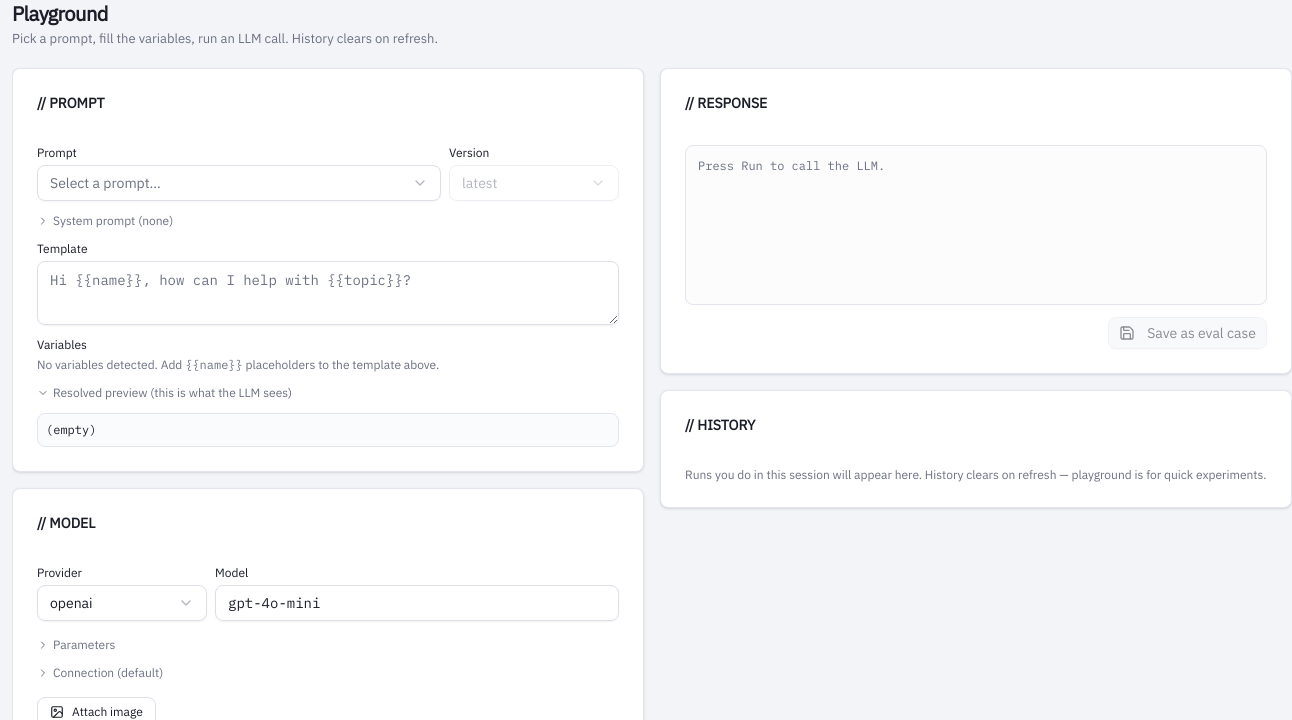
Test: PlaygroundPage › shows the provider's reason for a failed stream (P8)
The width and height of the screenshot is (1292, 720).
Expected: the text "openai" is shown, [50,593,93,613]
Type "hi" into the text box labelled "Template" at (328, 293), box [37,261,619,325]
(page scrolled)
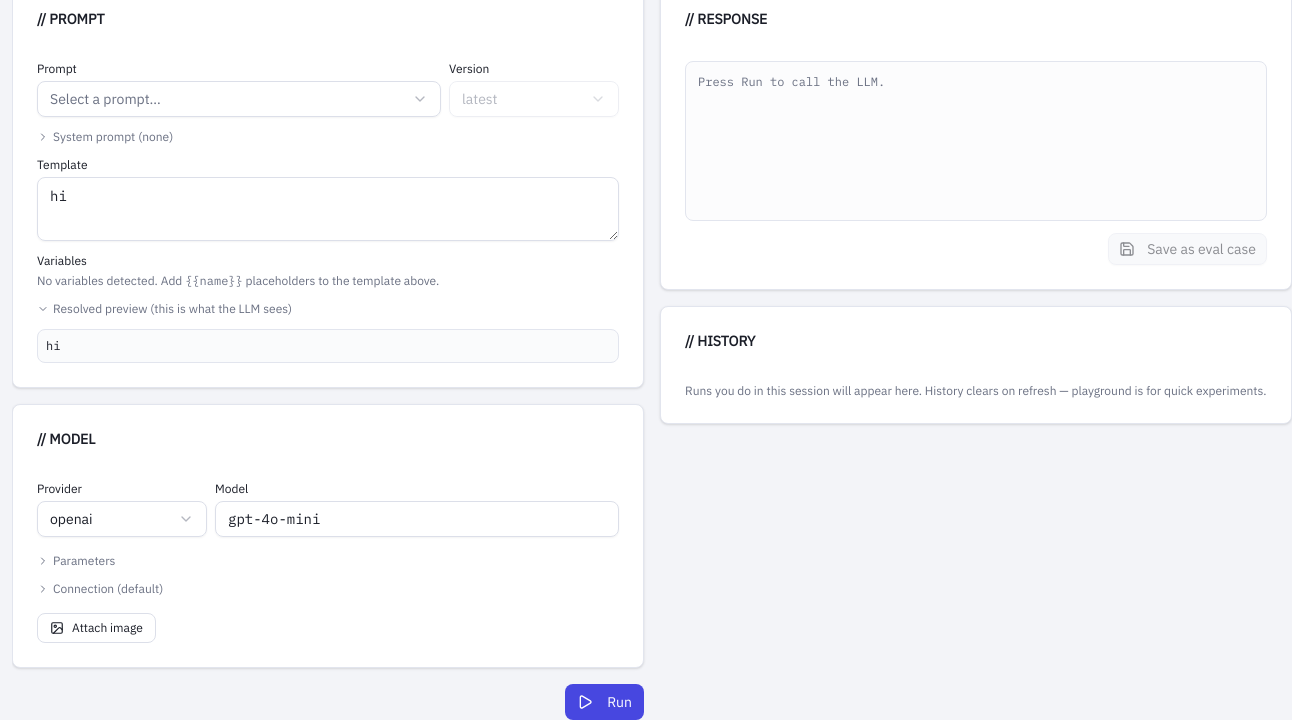
Click the button "Run" at (605, 702), box [565,684,644,719]
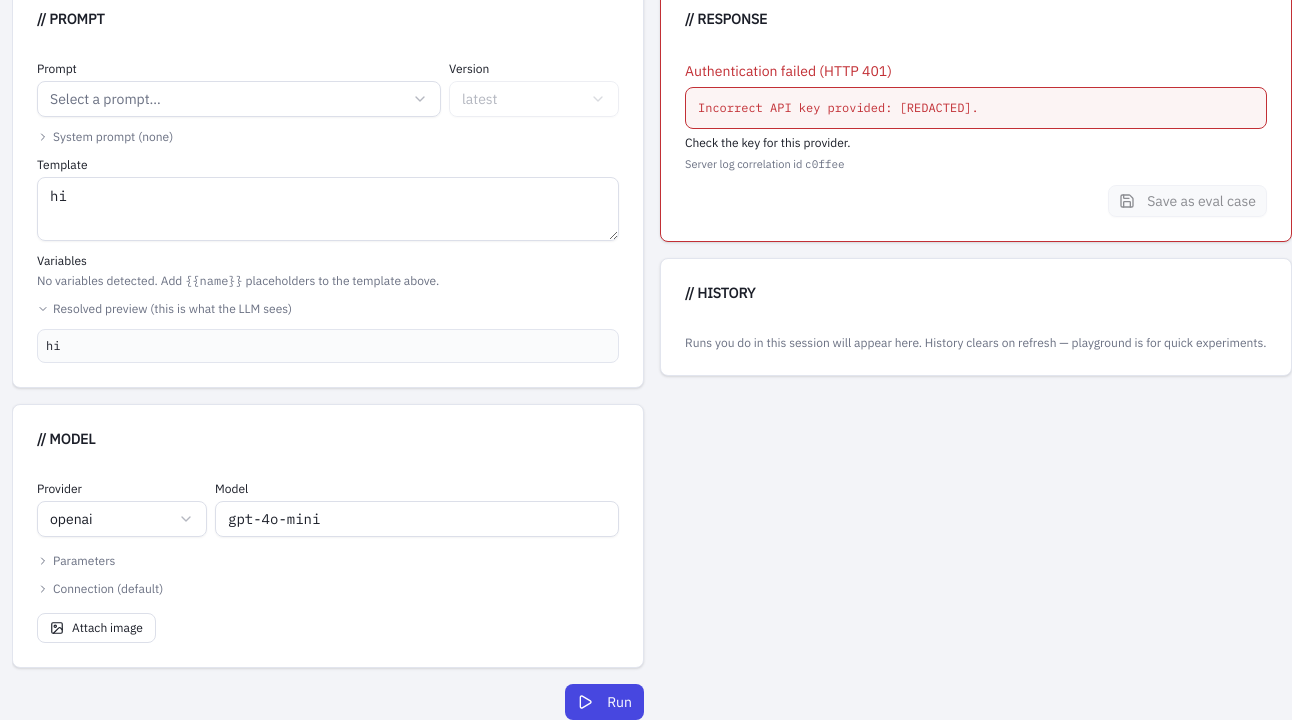
Expected: the text with test id "run-error-kind" reads "Authentication failed (HTTP 401)", [685,62,892,80]
Expected: the text "Incorrect API key provided: [REDACTED]." is shown, [685,87,1267,129]
Expected: the text "c0ffee" is shown, [805,157,845,171]
